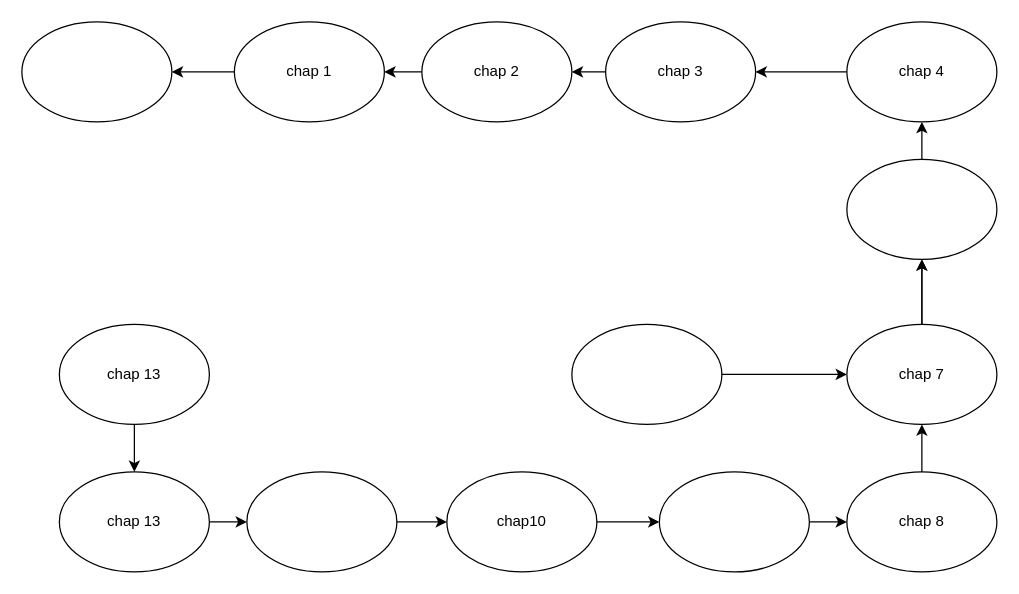
Image size: 1019x594. Some labels were removed from this diagram. The shapes that lost their labels are listed below. From the top down, each one's centre as x and y in pixels, then its label:
the point at 96,71: main
the point at 921,208: chap 5
the point at 646,373: chap 6
the point at 321,521: chap 11
the point at 733,521: chap 9
